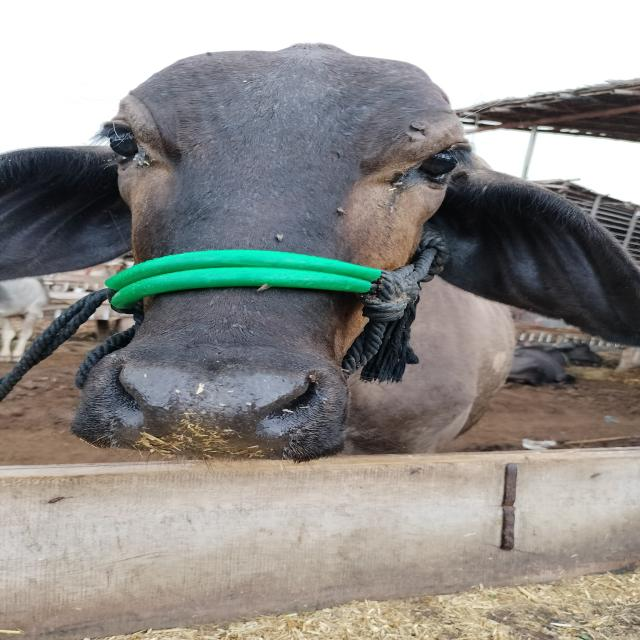muzzles: (88, 346, 344, 469)
